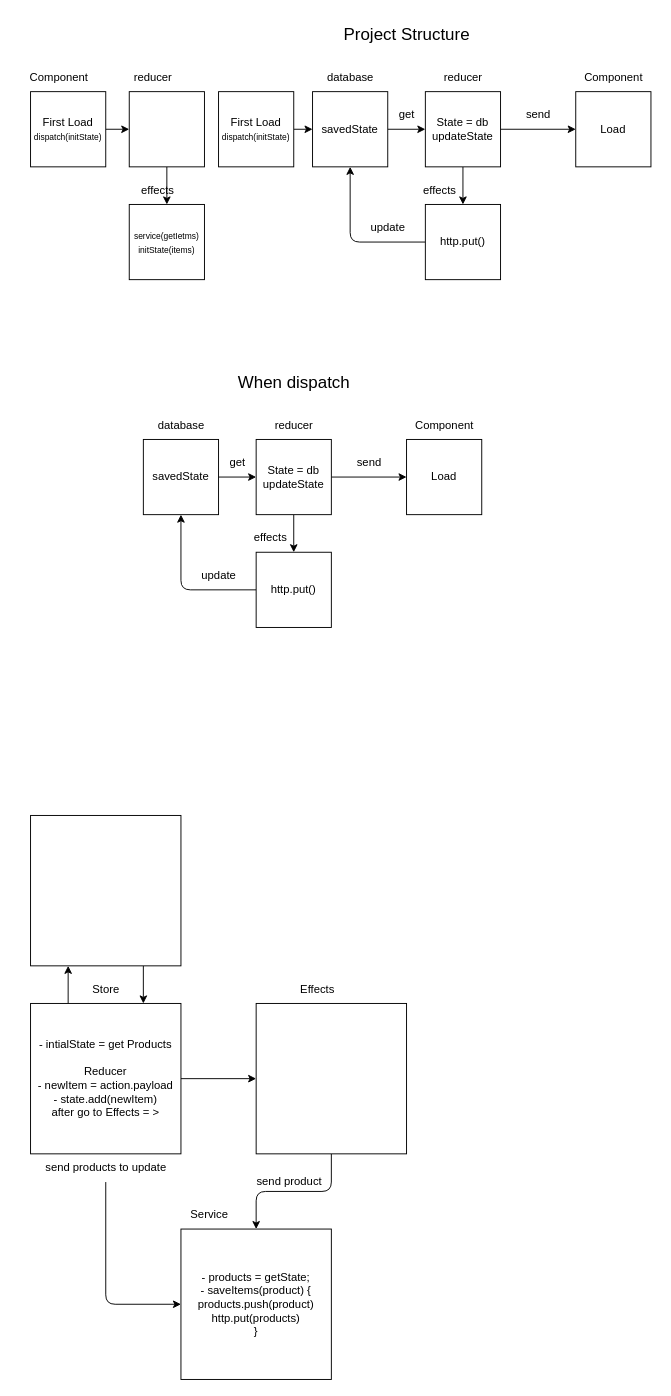
Image size: 671x1396. Some labels were removed from this diagram. Here are the shapes that lost their labels. From the top down, the centre of each, then its label:
the point at 166,129: run(initStateAction)
the point at 105,890: Component store.subscribe() onchange? store.dispatch(newItem)
the point at 331,1078: - this.saveItems(Product)
